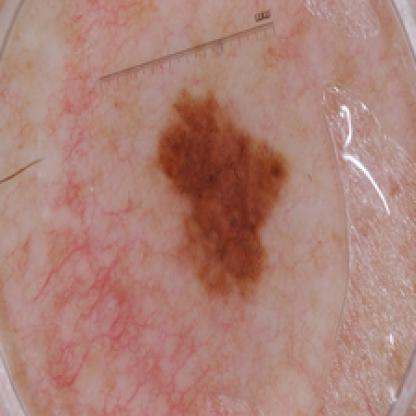malignant: (147, 76, 299, 297)
